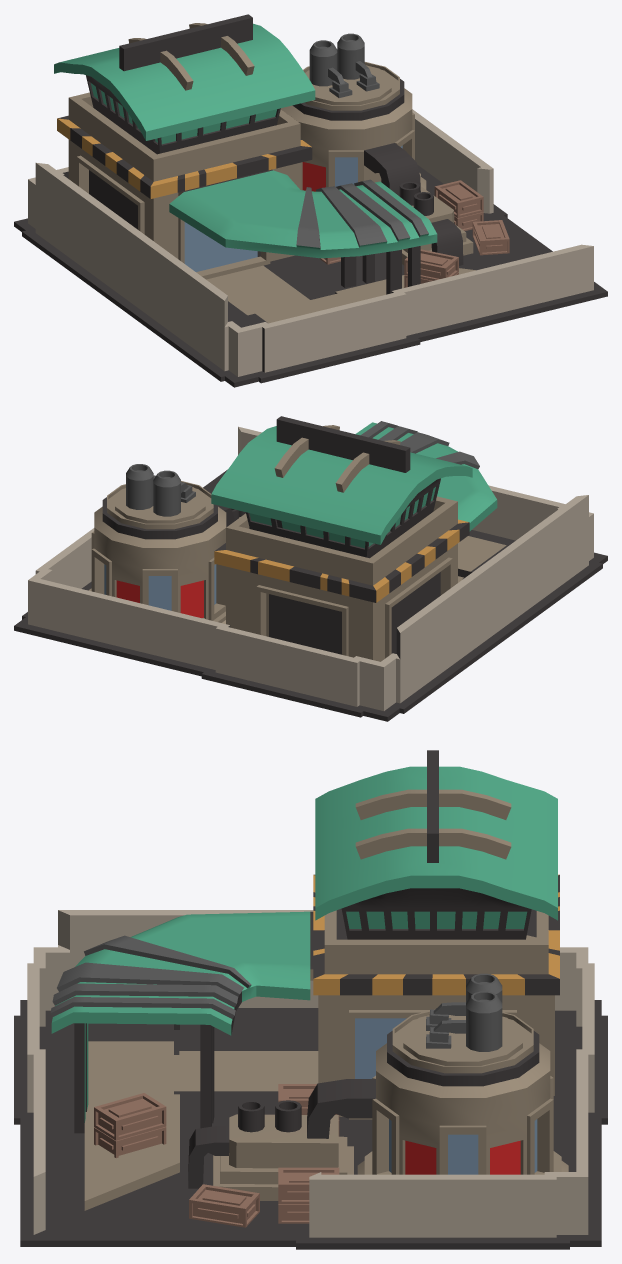
File: 研究所.fbx
3 views of the same model, one above another, from view 1: azimuth 30°, elevation 25°; view 2: azimuth 150°, elevation 25°; view 3: azimuth 270°, elevation 25° (orthographic). The views are drawn at different scales.
Parts seen in each view (by area): view 1: 立方体_19; view 2: 立方体_19; view 3: 立方体_19.
Part boxes in pixels (box(x1,y1,x2,y2)): 立方体_19: box(14, 14, 607, 387); 立方体_19: box(14, 416, 607, 721); 立方体_19: box(14, 750, 607, 1249).
Bounding box in the file's own units: 195 × 106 × 198.
